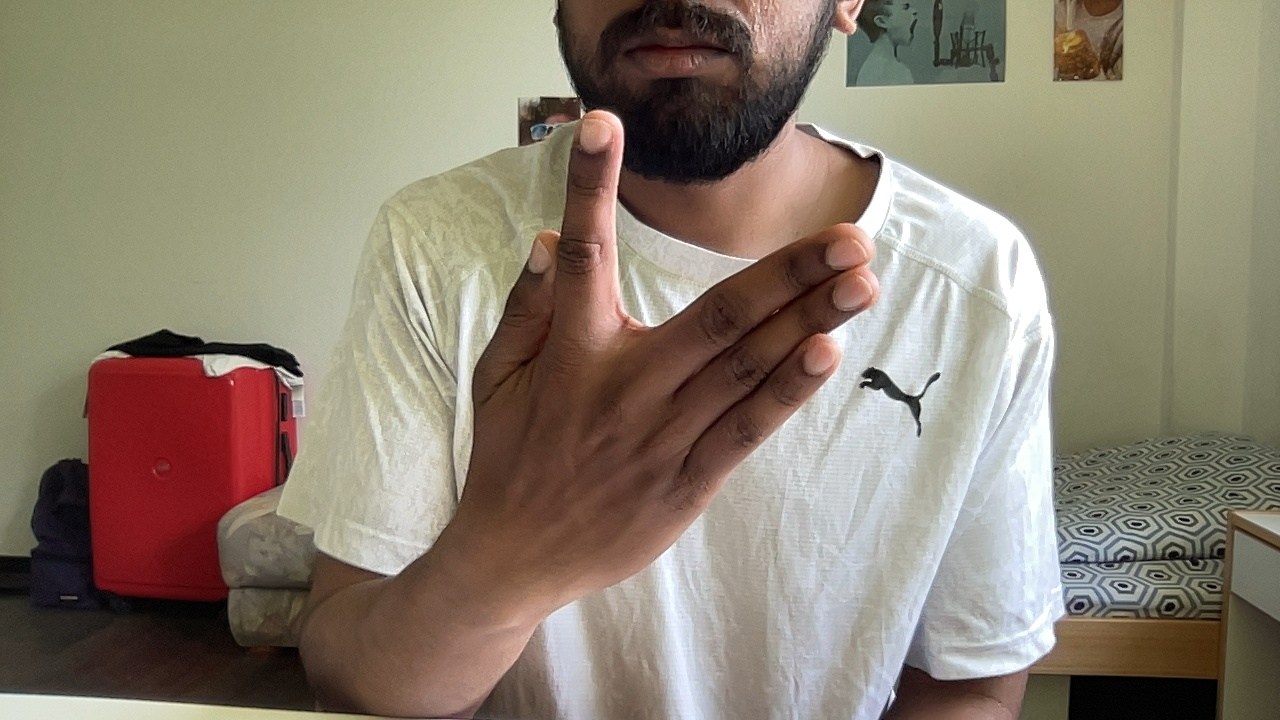LiveLong: (471, 111, 877, 598)
